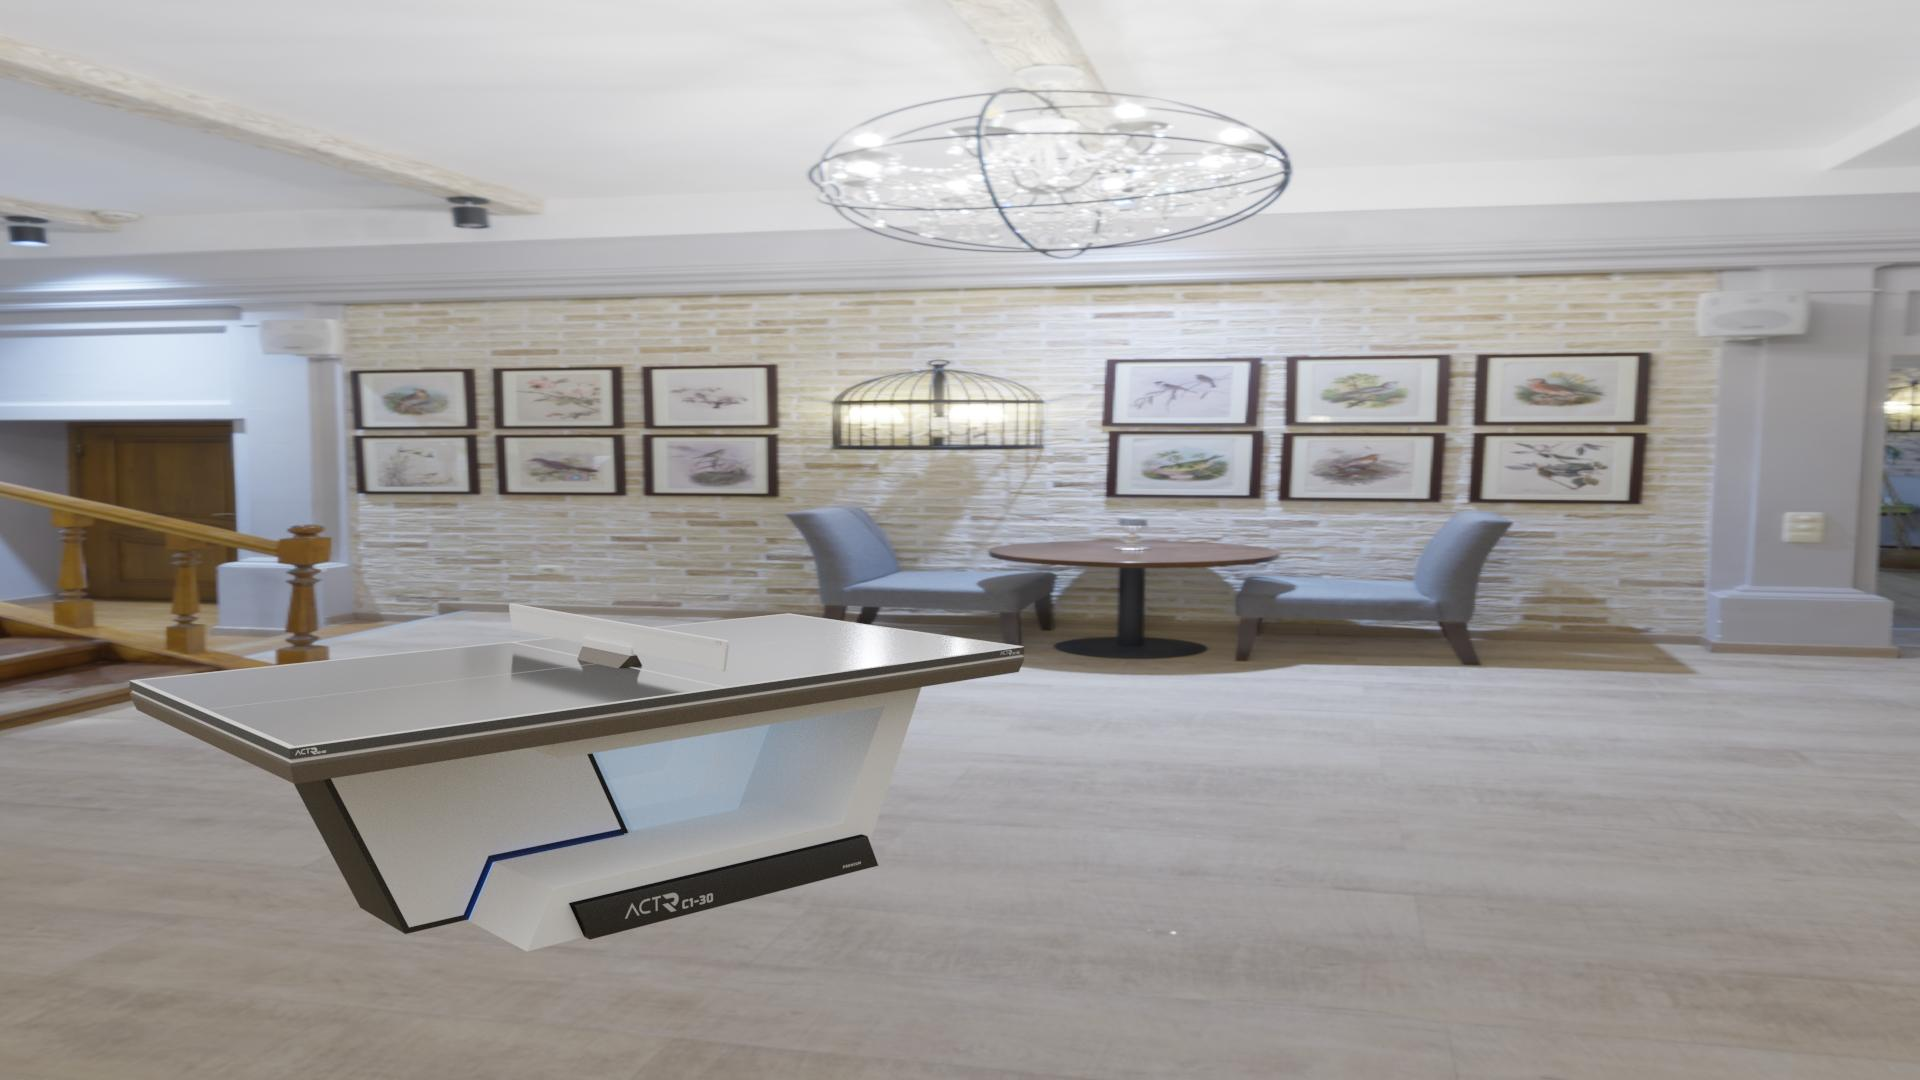table: (137, 615, 1017, 746)
